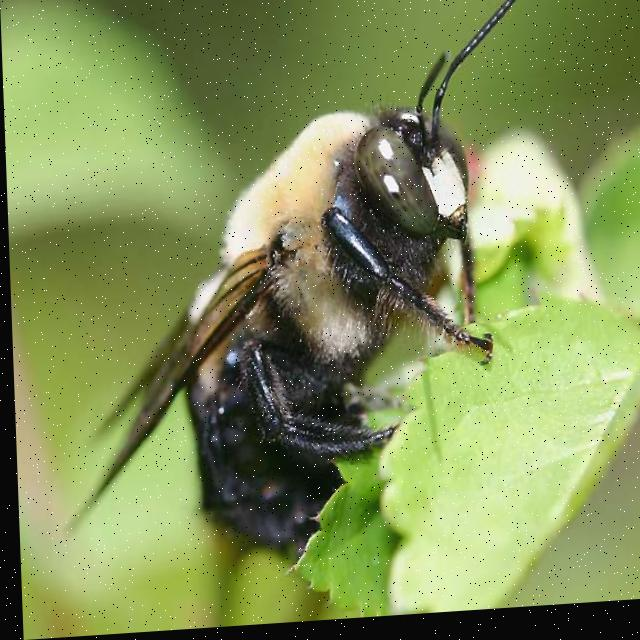Xylocopa: (36, 0, 543, 596)
